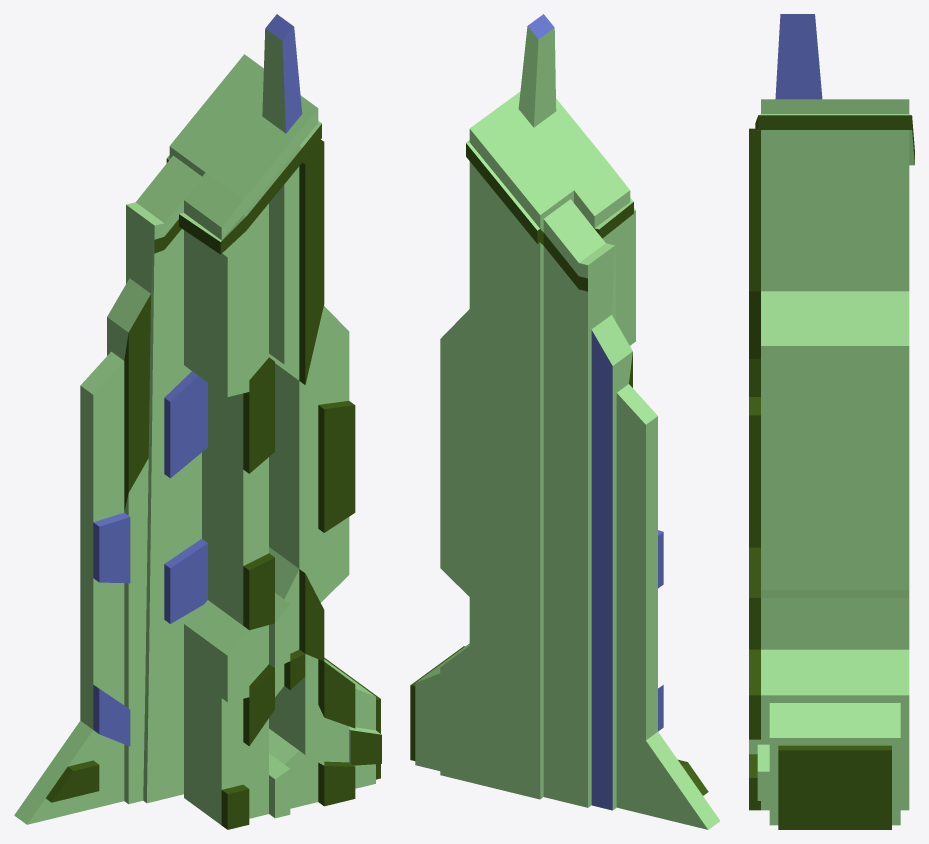
3 renders of one model, left to right at view 1: azimuth 30°, elevation 25°; view 2: azimuth 150°, elevation 25°; view 3: azimuth 270°, elevation 25°, orthographic. The views are drawn at different scales.
Visible parts, largest first — view 1: Box001; view 2: Box001; view 3: Box001.
Boxes of the visible parts, x1,y1,x2,y2 form: Box001: [14, 14, 381, 829]; Box001: [410, 14, 719, 829]; Box001: [749, 14, 914, 829].
Bounding box in the file's own units: 129 × 304 × 59.06.
